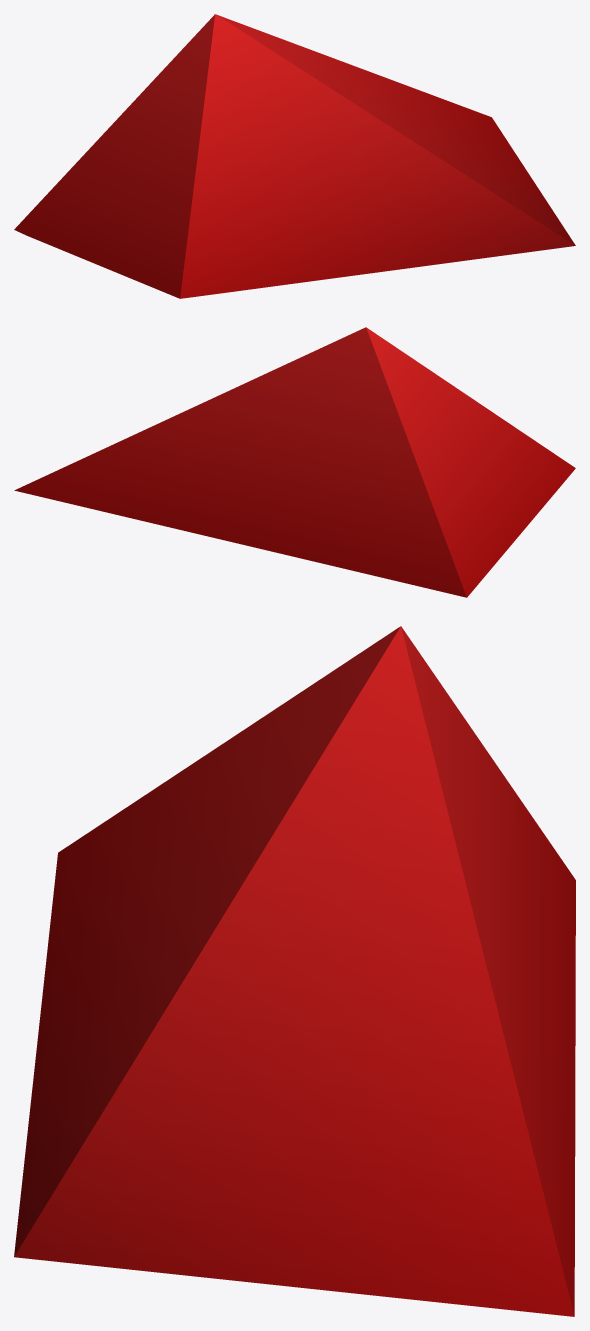
The model's file is c_roof_square_ab.fbx.
3 renders of one model, top to bottom at view 1: azimuth 30°, elevation 25°; view 2: azimuth 150°, elevation 25°; view 3: azimuth 270°, elevation 25°, orthographic. The views are drawn at different scales.
Parts seen in each view (by area): view 1: c_roof_square_ab; view 2: c_roof_square_ab; view 3: c_roof_square_ab.
Boxes of the visible parts, left/top/right/bottom form: c_roof_square_ab: left=14, top=14, right=575, bottom=298; c_roof_square_ab: left=14, top=327, right=575, bottom=597; c_roof_square_ab: left=14, top=626, right=575, bottom=1316.
Bounding box in the file's own units: 9.57 × 4.21 × 5.29.
